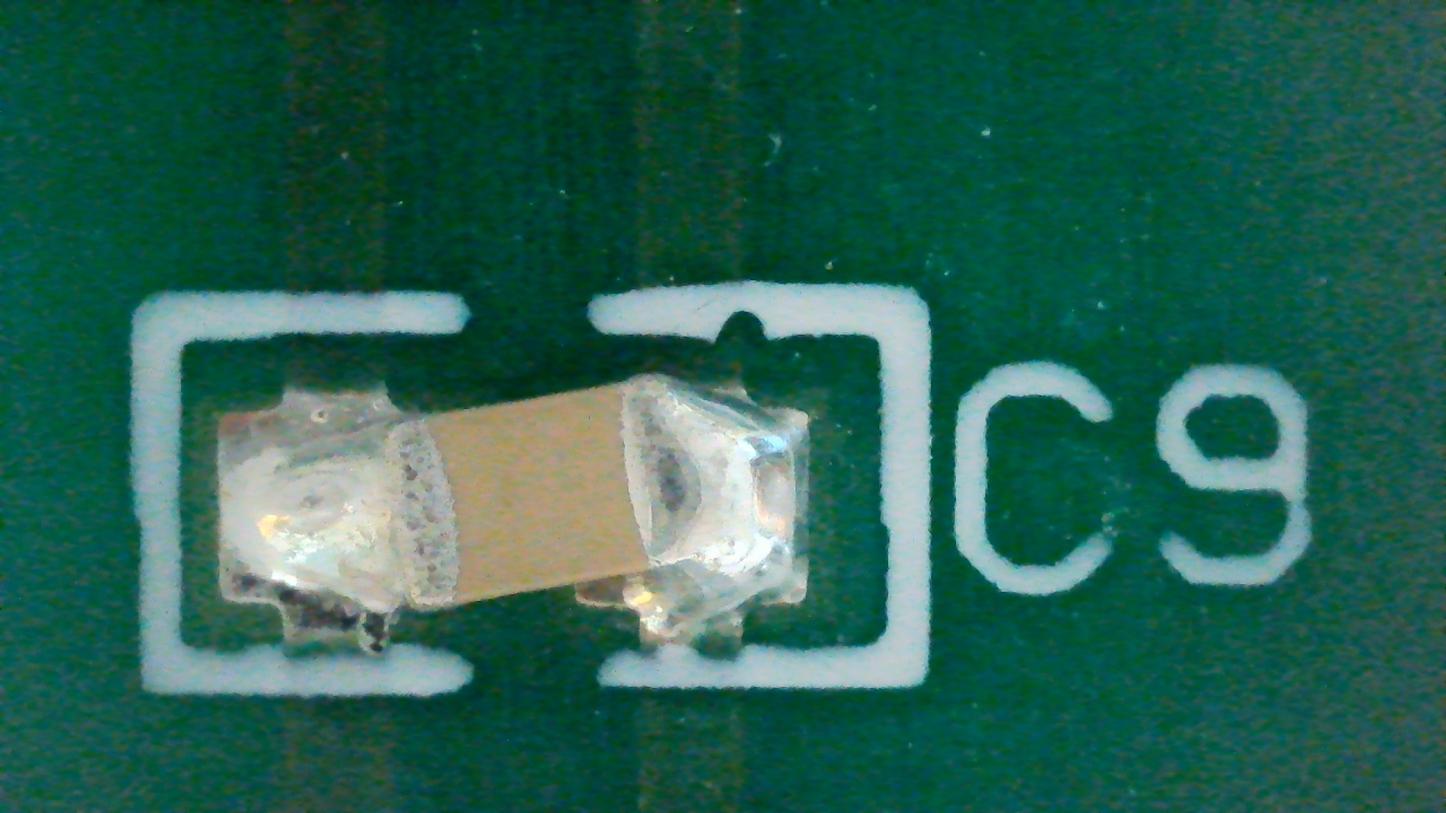NG: (222, 376, 811, 657)
